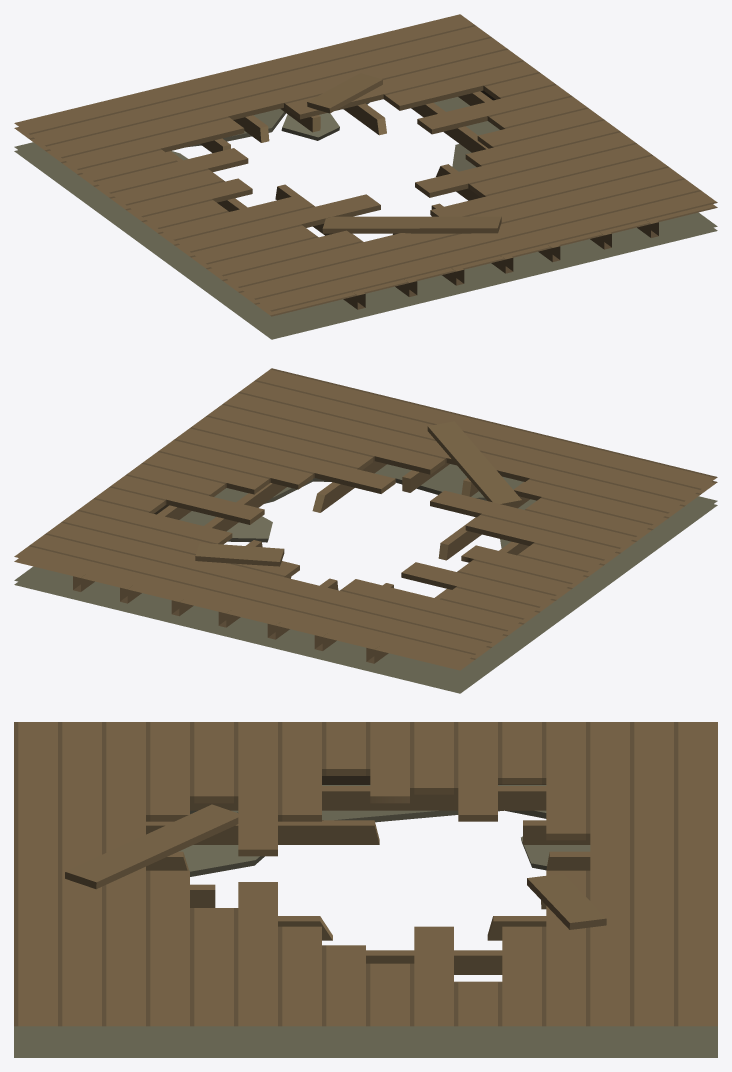
Rendered from AI_Env_Floor_02_Hole_Large.fbx.
The picture shows the model from 3 angles, top to bottom: view 1: azimuth 30°, elevation 25°; view 2: azimuth 150°, elevation 25°; view 3: azimuth 270°, elevation 25°; orthographic projection. The views are drawn at different scales.
Visible parts, largest first — view 1: AI_Env_Floor_02_Hole_Large; view 2: AI_Env_Floor_02_Hole_Large; view 3: AI_Env_Floor_02_Hole_Large.
Boxes of the visible parts, x1,y1,x2,y2 form: AI_Env_Floor_02_Hole_Large: [14, 14, 717, 339]; AI_Env_Floor_02_Hole_Large: [14, 368, 717, 693]; AI_Env_Floor_02_Hole_Large: [14, 722, 717, 1057].
Size of the model in its own units: 10 by 1.18 by 10.
